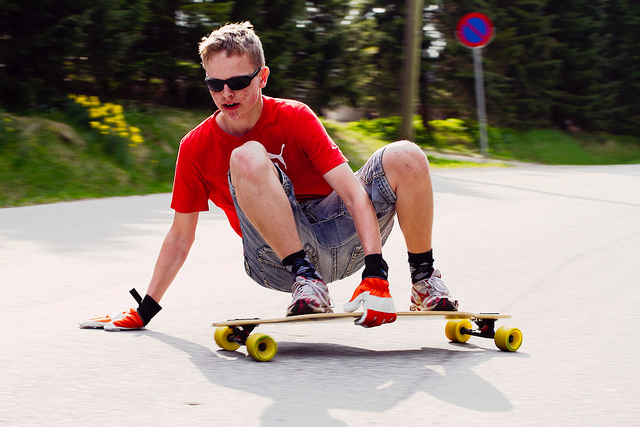Person: (180, 11, 331, 201)
Restricted no stopping: (456, 5, 493, 50)
